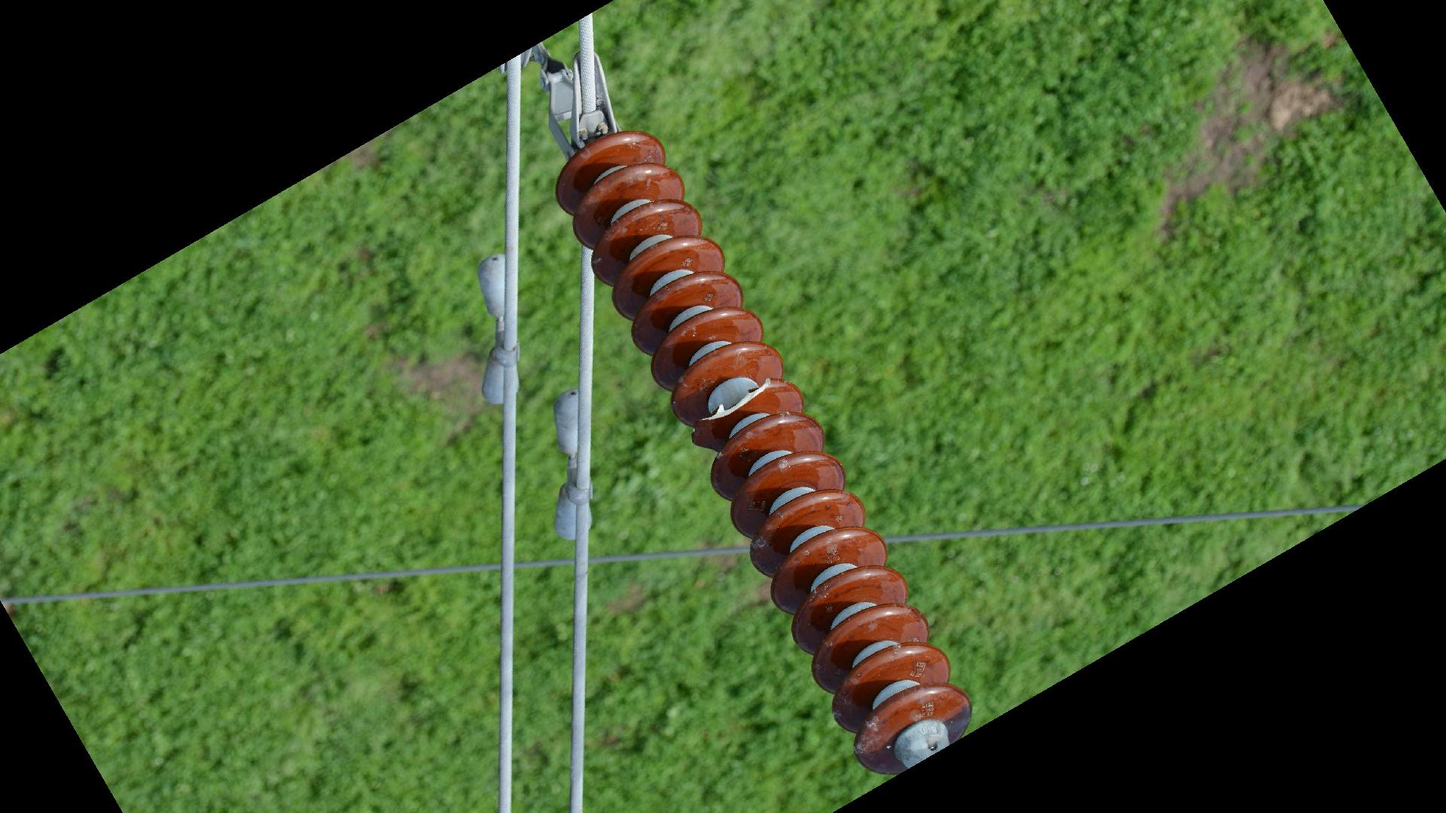insulator: (546, 126, 981, 781)
insulator_breakage: (695, 375, 776, 431)
